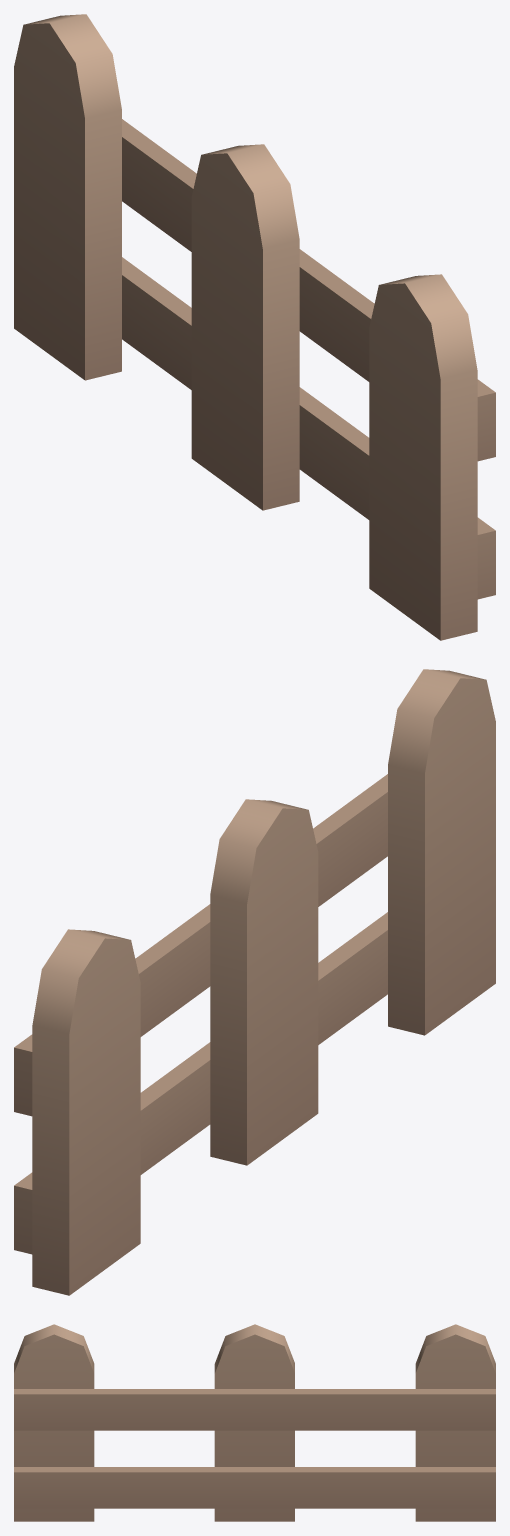
The model's file is fence-picket-round-low.glb.
The picture shows the model from 3 angles, top to bottom: view 1: azimuth 30°, elevation 25°; view 2: azimuth 150°, elevation 25°; view 3: azimuth 270°, elevation 25°; orthographic projection. The views are drawn at different scales.
Visible parts, largest first — view 1: fence-picket-round-low; view 2: fence-picket-round-low; view 3: fence-picket-round-low.
Part boxes in pixels (<box>): fence-picket-round-low: <box>14,14,495,640</box>; fence-picket-round-low: <box>14,669,495,1295</box>; fence-picket-round-low: <box>14,1324,495,1521</box>.
Bounding box in the file's own units: 0.0945 × 0.54 × 1.26.
